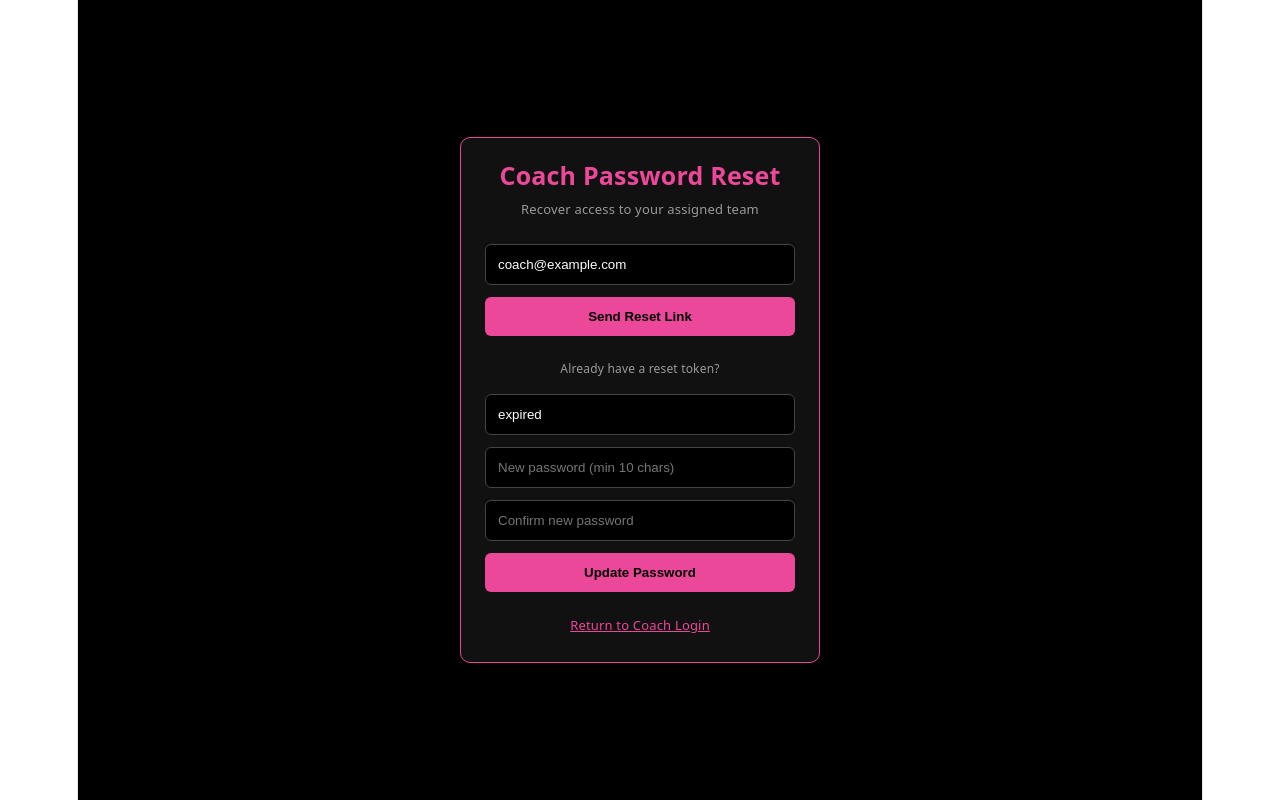
Test case: CoachPasswordReset › shows the API error when a reset token is rejected
Type "strong-password" into the password field with placeholder "New password (min 10 chars)". click: (640, 468)
box: 485,447 -> 795,488
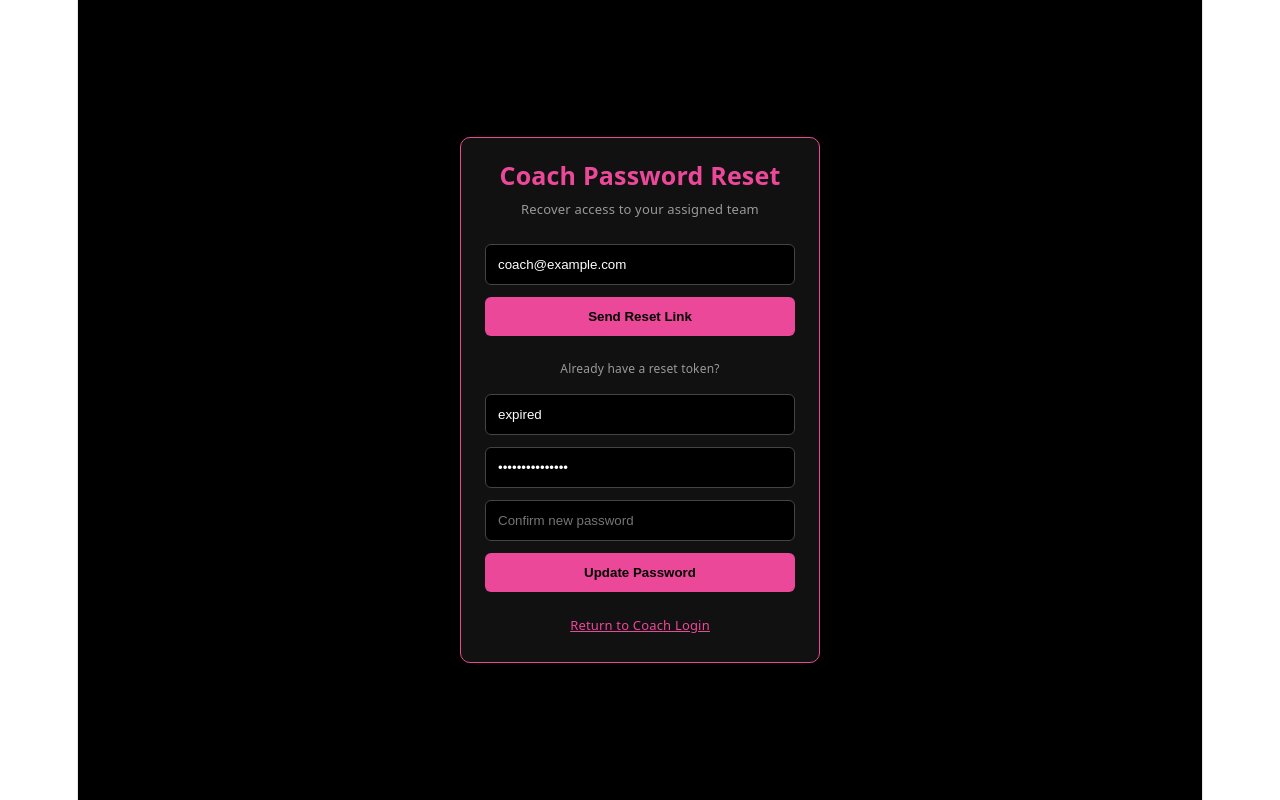
Type "strong-password" into the password field with placeholder "Confirm new password". click: (640, 521)
box: 485,500 -> 795,541
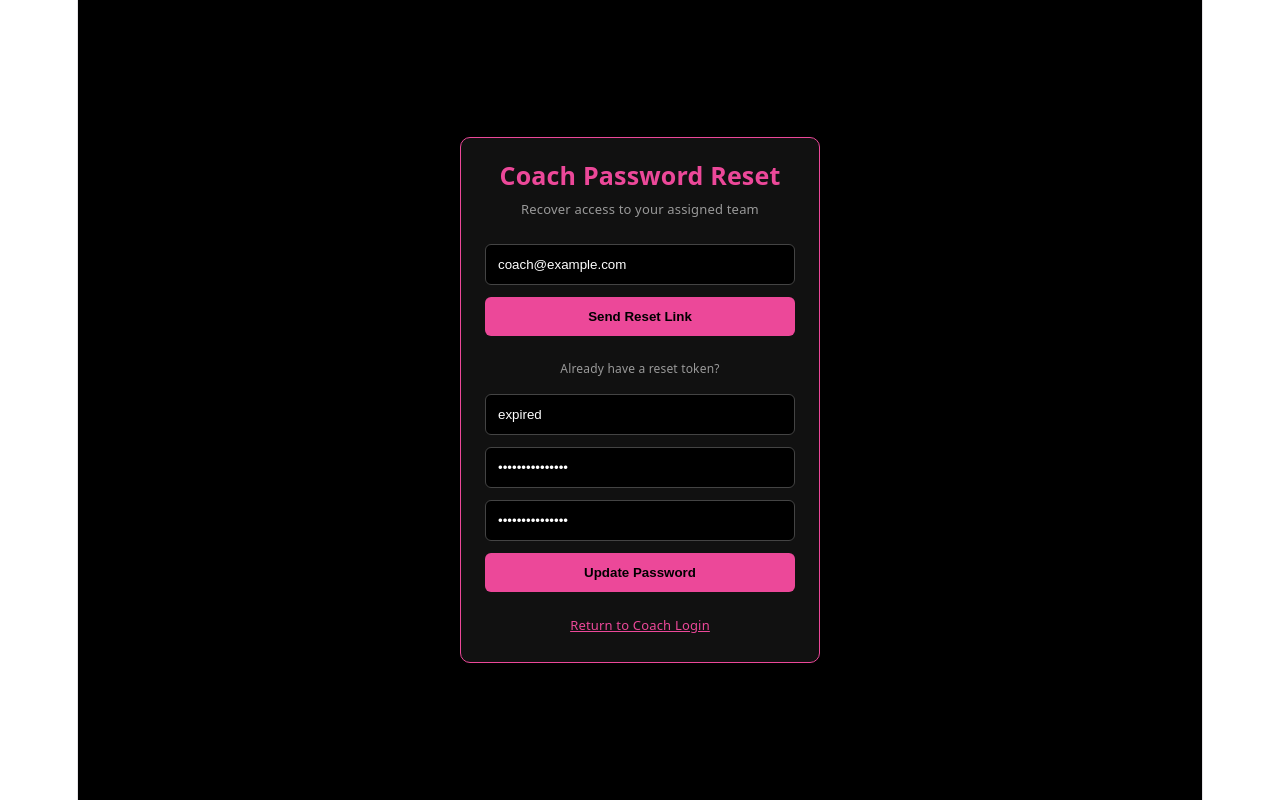
Click the button "Update Password". click: (640, 573)
box: 485,553 -> 795,592
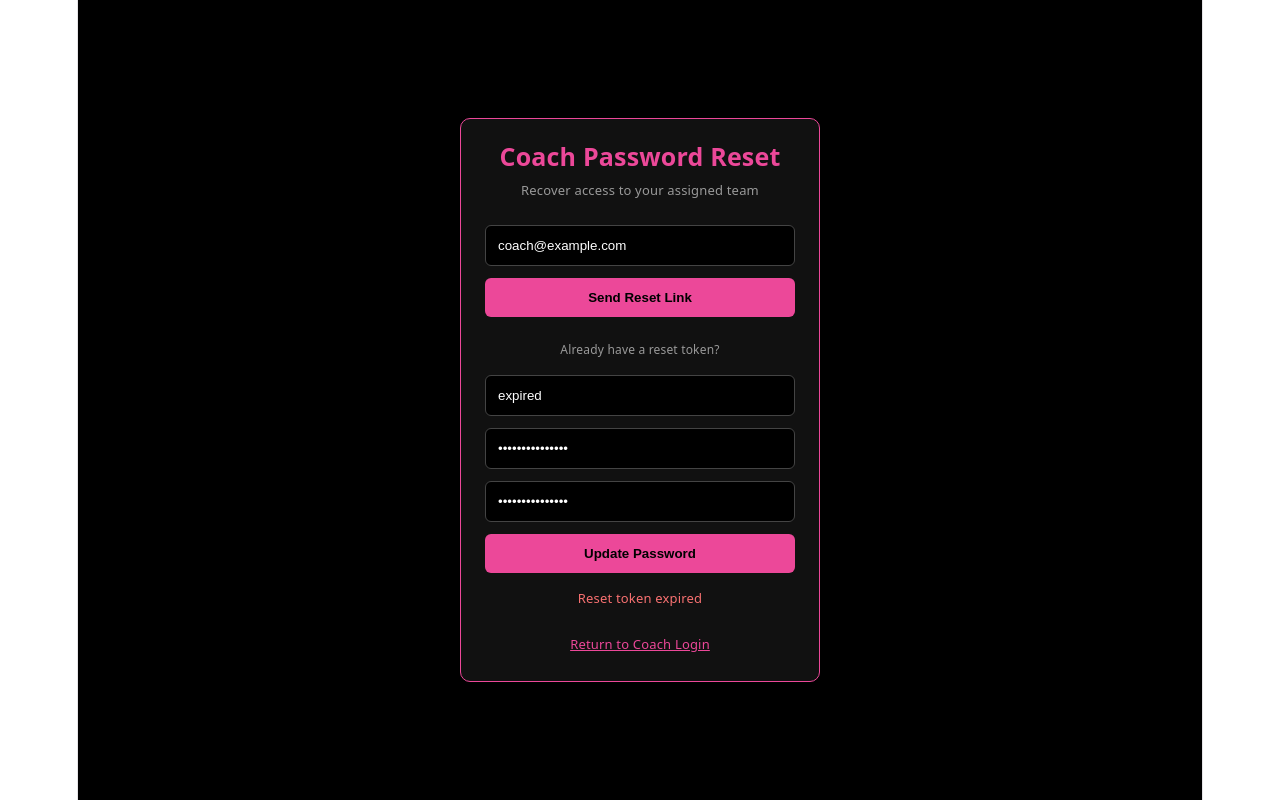
Check: the text "Reset token expired" is shown, box 578,589 -> 702,607
